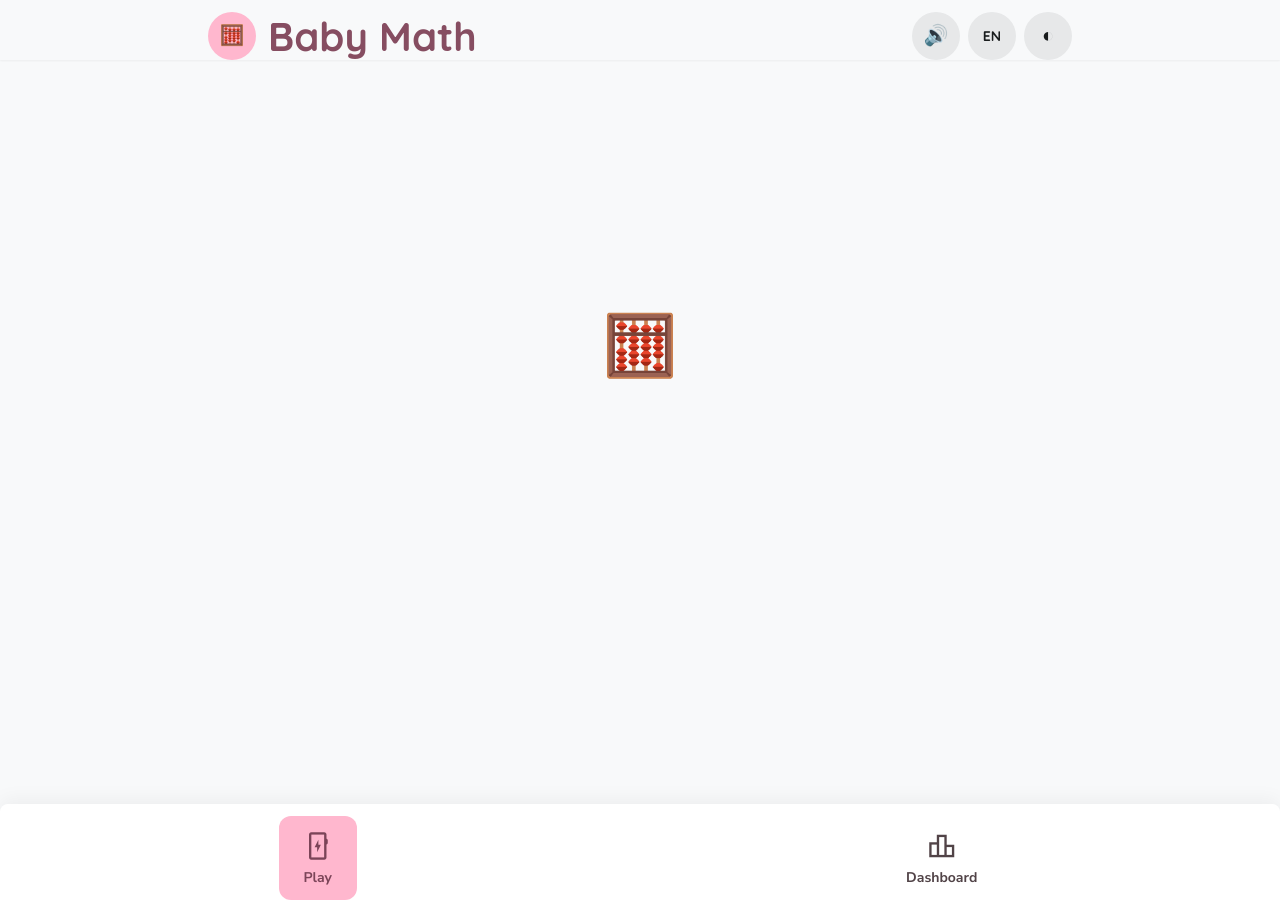
App - FE-003 › accepts correct PIN and shows Dashboard
Click the text "Dashboard" at (942, 878), box [906, 868, 977, 888]
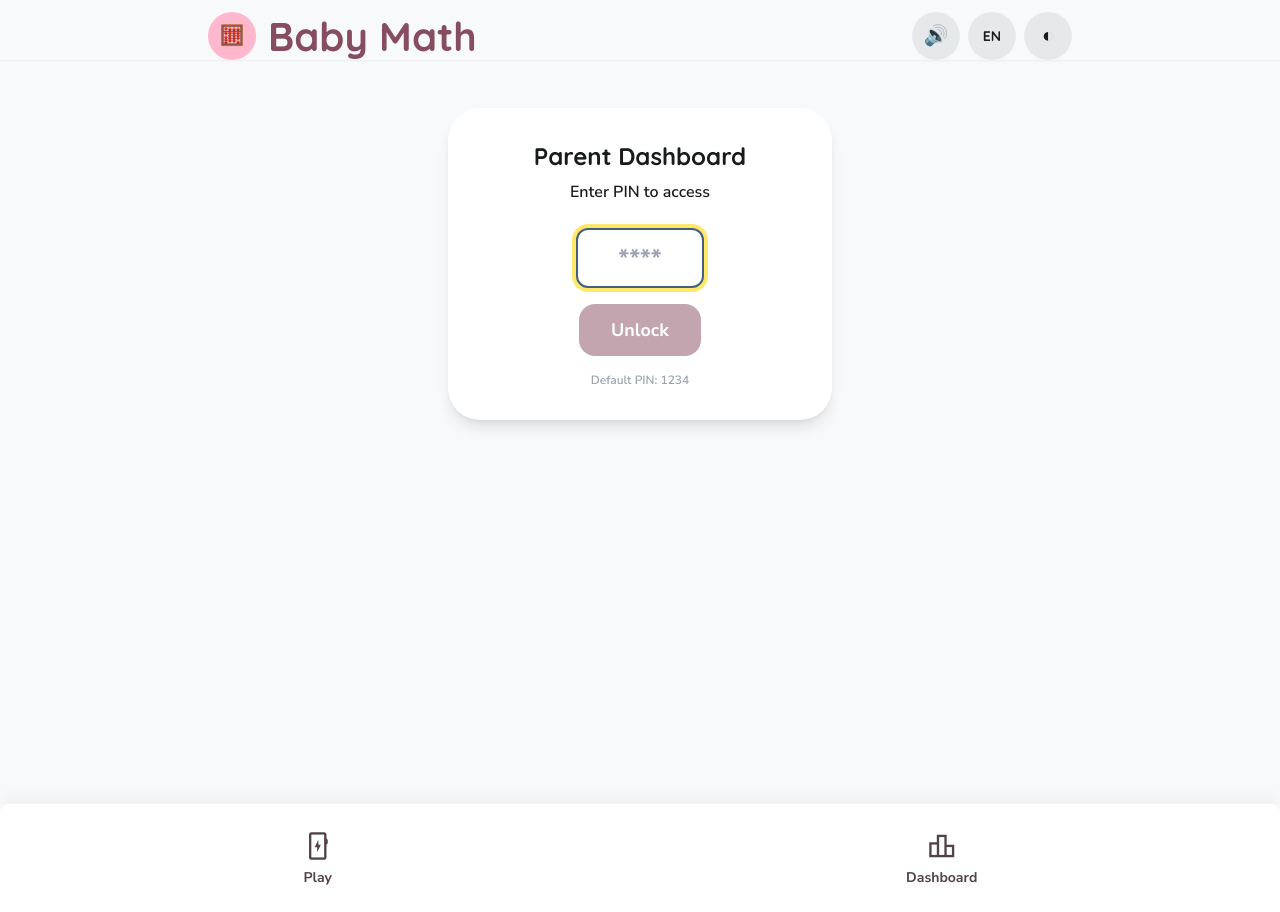
Type "1234" into the password field with placeholder "****" at (640, 258), box [576, 228, 704, 288]
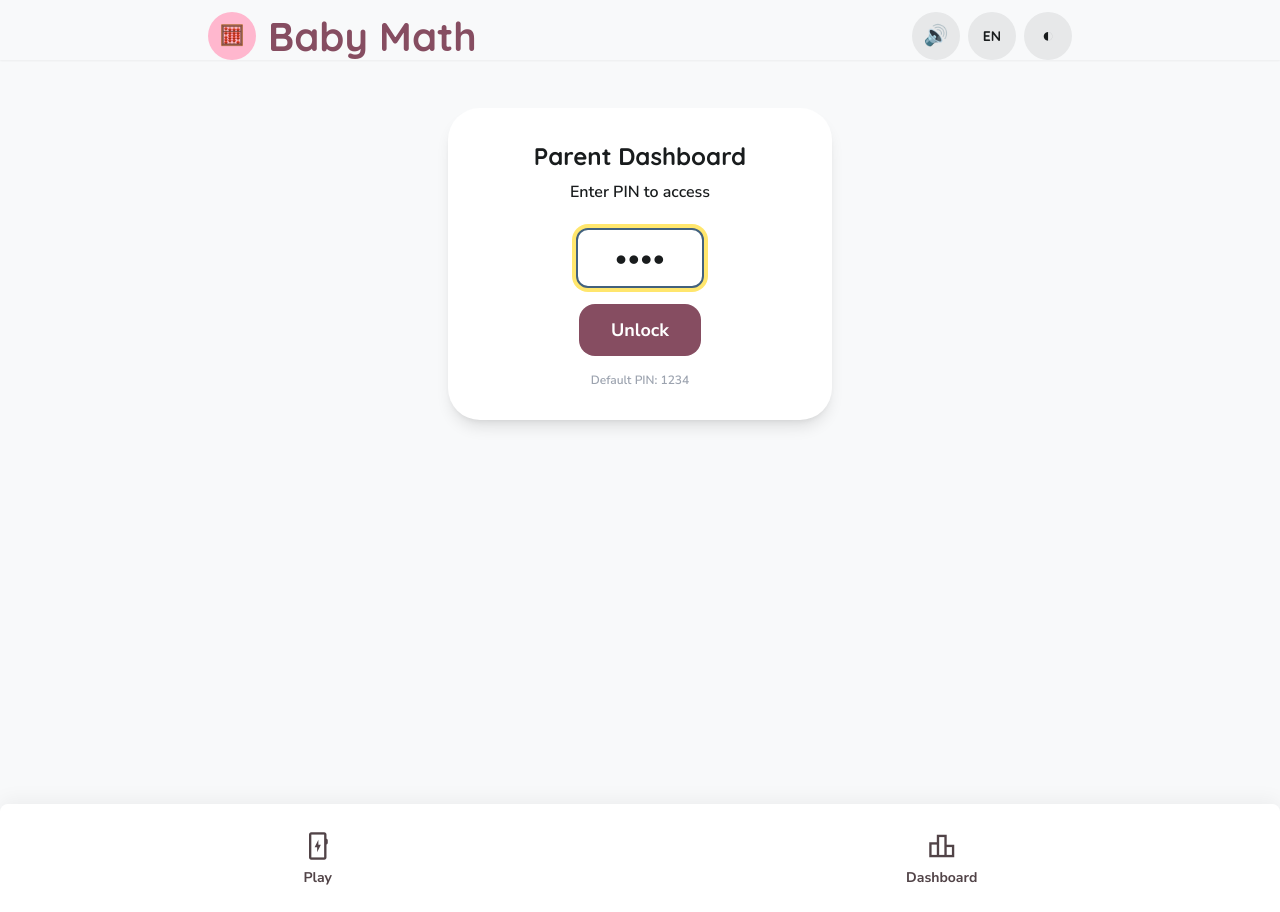
Click the button "Unlock" at (640, 330), box [579, 304, 701, 356]
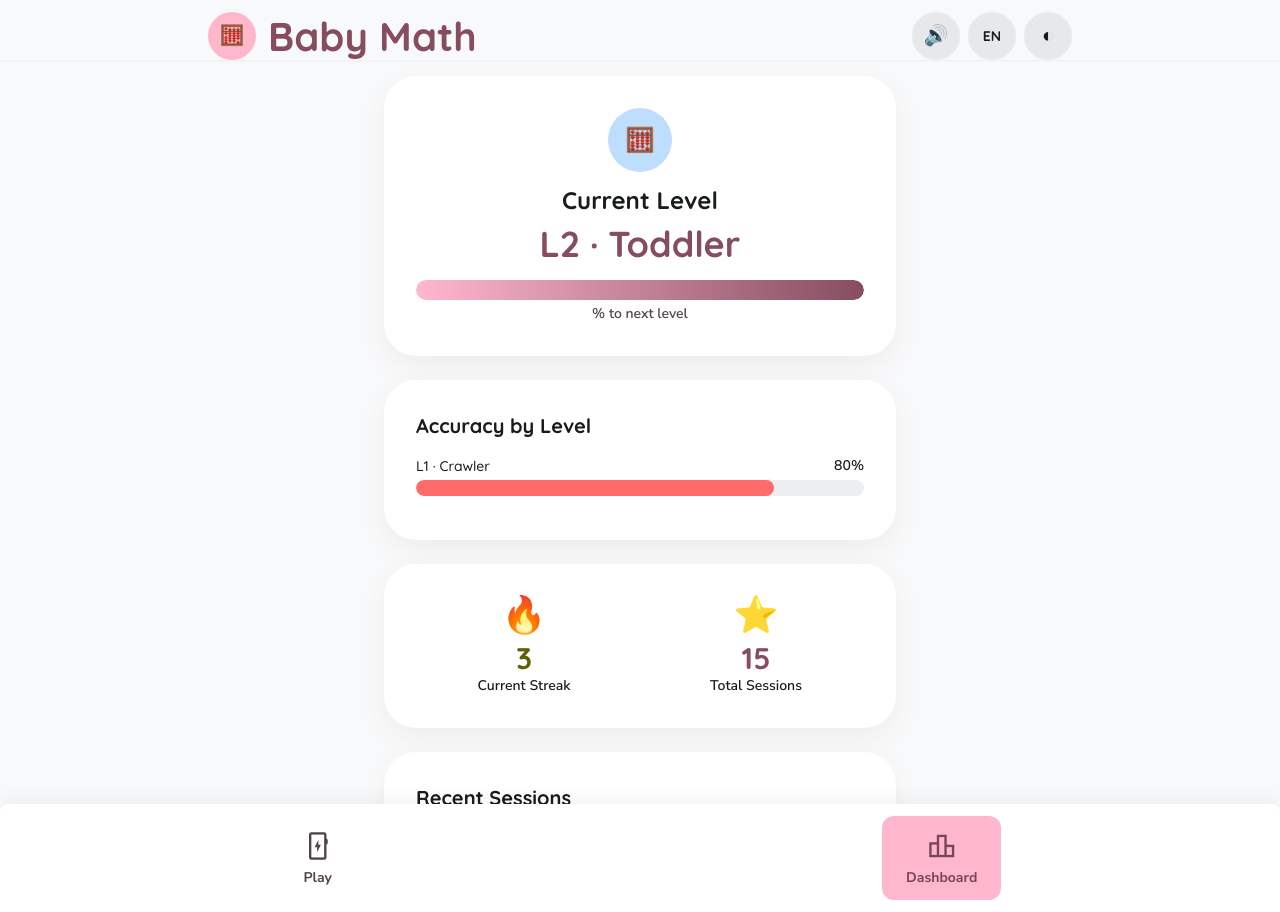
Check: the heading "Accuracy by Level" is shown, box [416, 413, 591, 438]
